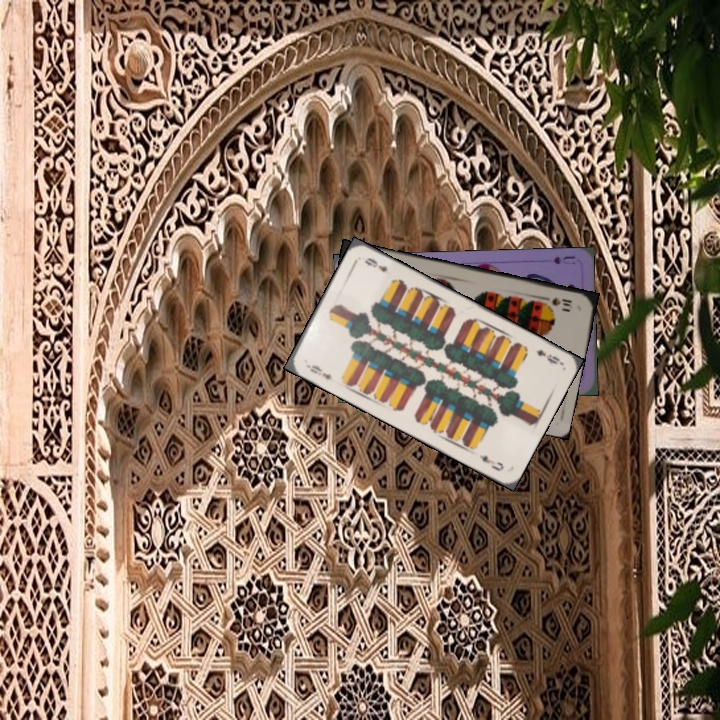E9: (302, 360, 335, 384), (532, 345, 564, 367)
S10: (539, 293, 575, 311)
SU: (549, 252, 578, 267)
